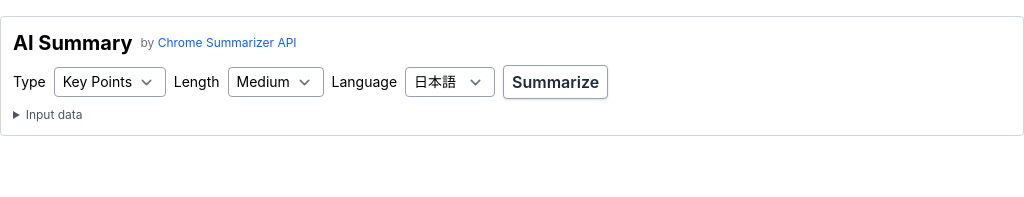
it: ActivitySummary › モデルのクォータに収まるよう入力を調整して送信内容を表示する
What coordinates should you click on to do the following:
click the button "Summarize"
I would click on:
 (556, 82)
Its box is left=503, top=65, right=608, bottom=99.
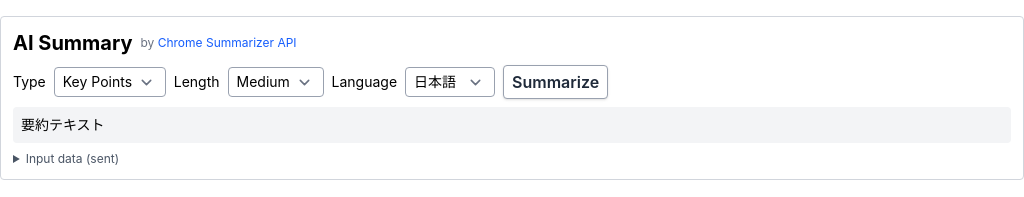
Check: the heading "Input data (sent)" is shown, box left=26, top=151, right=119, bottom=166
